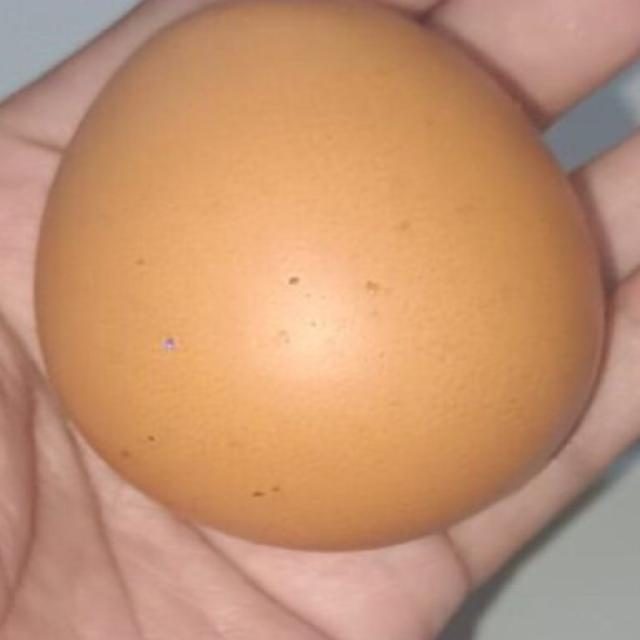fresh: (28, 0, 615, 540)
